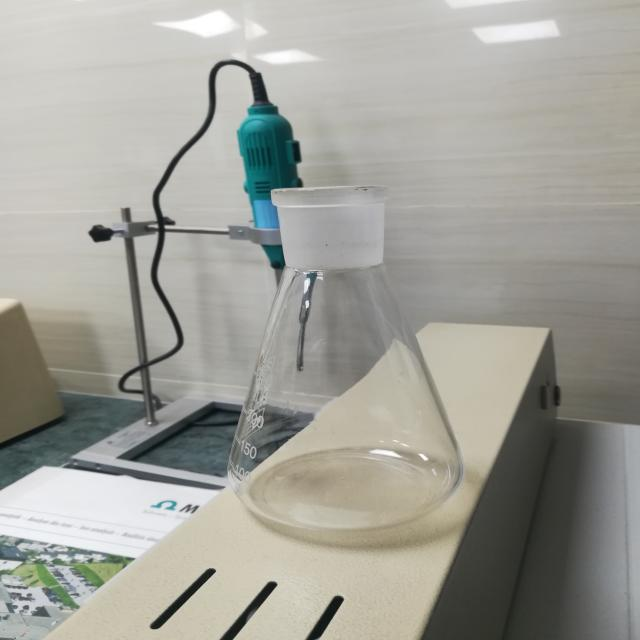Conical_Flask: (211, 154, 487, 551)
